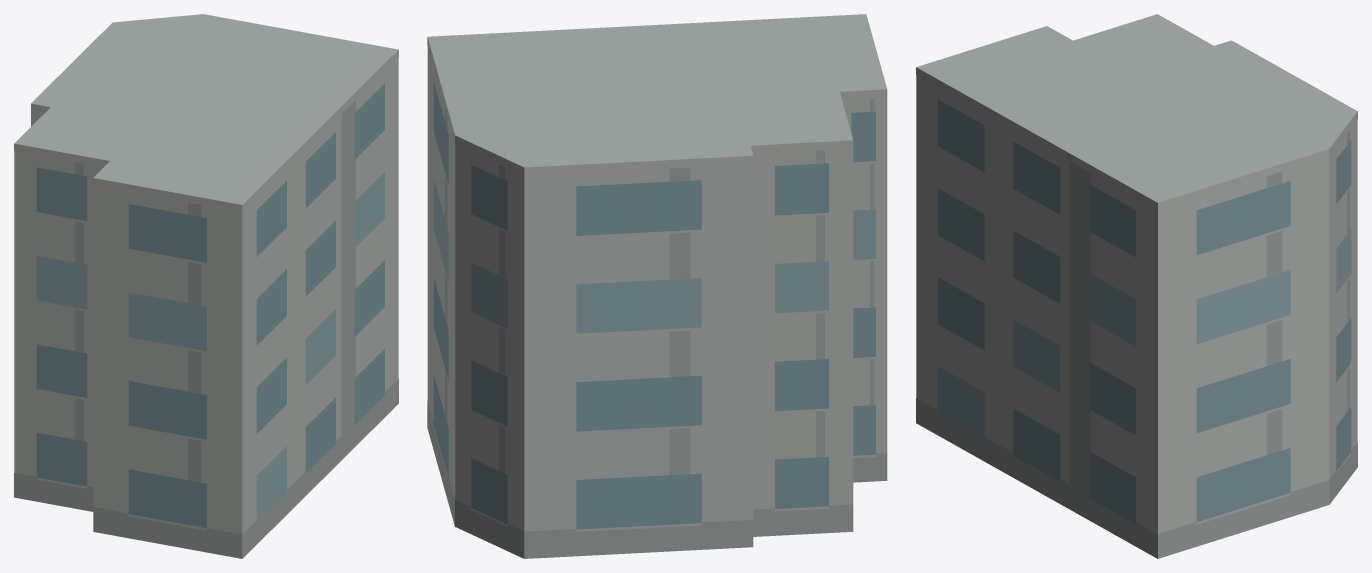
The model's file is residential-967f84d5-0e6d-44bd-818a-a6c6fdf43f39.glb.
3 views of the same model, side by side, from view 1: azimuth 30°, elevation 25°; view 2: azimuth 150°, elevation 25°; view 3: azimuth 270°, elevation 25° (orthographic). The views are drawn at different scales.
Parts seen in each view (by area): view 1: residential-967f84d5-0e6d-44bd-818a-a6c6fdf43f39.tmp; view 2: residential-967f84d5-0e6d-44bd-818a-a6c6fdf43f39.tmp; view 3: residential-967f84d5-0e6d-44bd-818a-a6c6fdf43f39.tmp.
Boxes of the visible parts, left/top/right/bottom form: residential-967f84d5-0e6d-44bd-818a-a6c6fdf43f39.tmp: left=14, top=14, right=398, bottom=558; residential-967f84d5-0e6d-44bd-818a-a6c6fdf43f39.tmp: left=427, top=14, right=887, bottom=558; residential-967f84d5-0e6d-44bd-818a-a6c6fdf43f39.tmp: left=916, top=14, right=1357, bottom=558.
Size of the model in its own units: 12.75 by 11.2 by 12.6.
